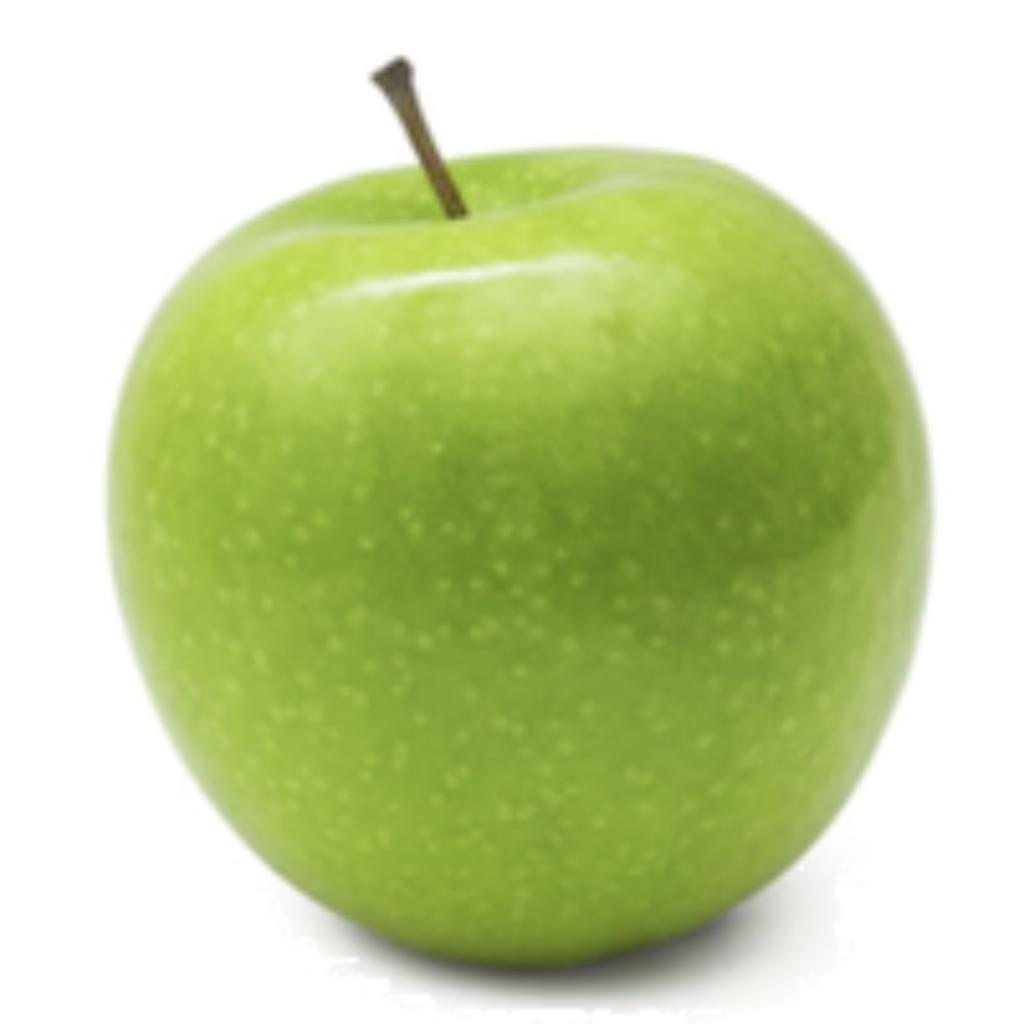apple: (97, 46, 937, 1019)
